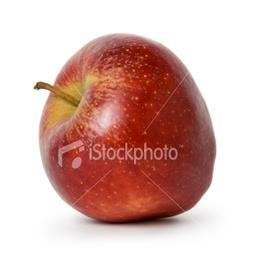apple: (38, 32, 216, 223)
